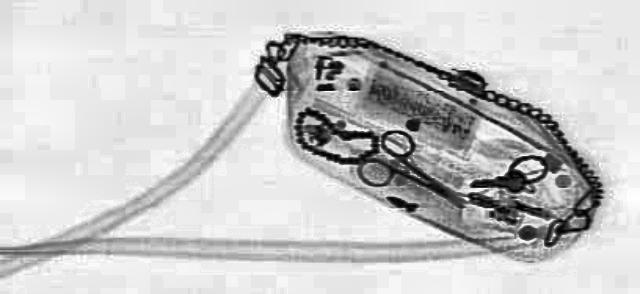Scissors: (314, 127, 486, 207)
